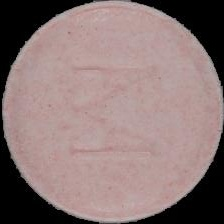55154-6242: (0, 0, 224, 224)
